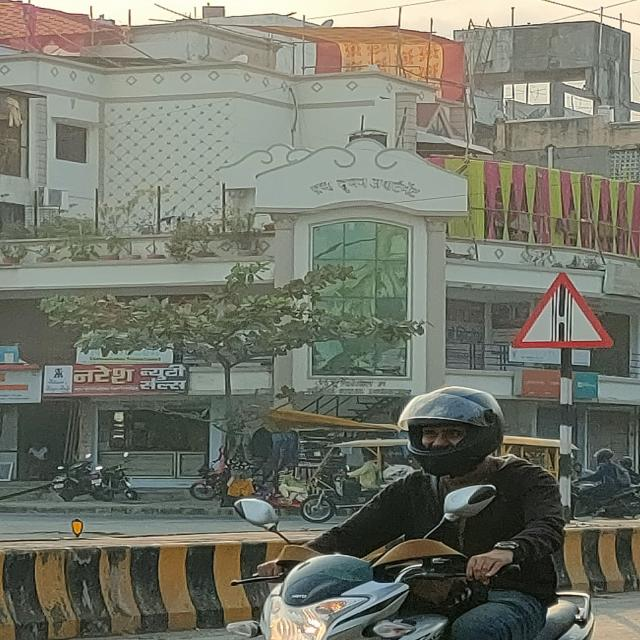GAP_IN_MEDIAN: (515, 271, 618, 348)
